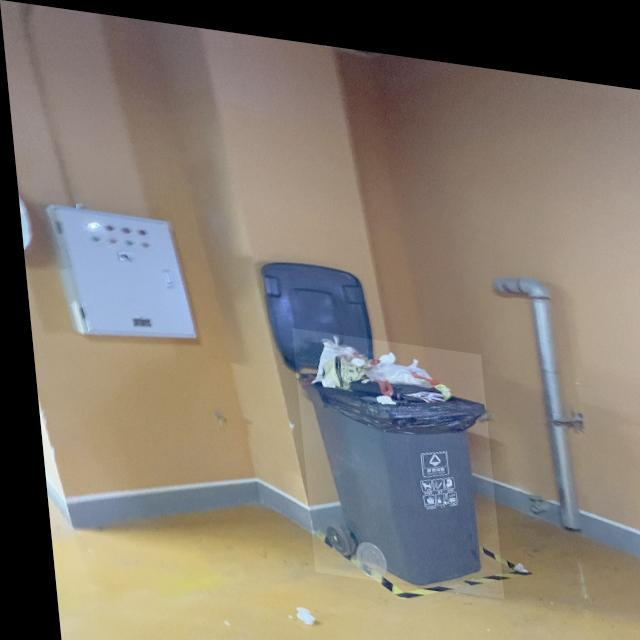overflow: (286, 320, 494, 585)
